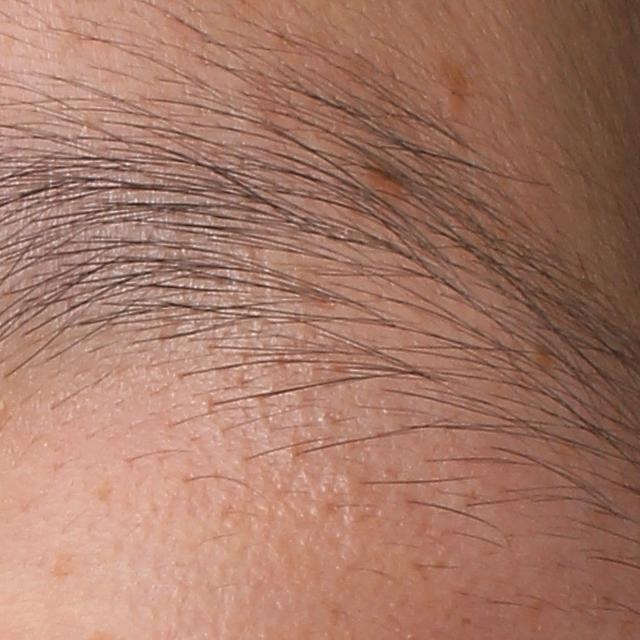melasma: (51, 549, 81, 579)
